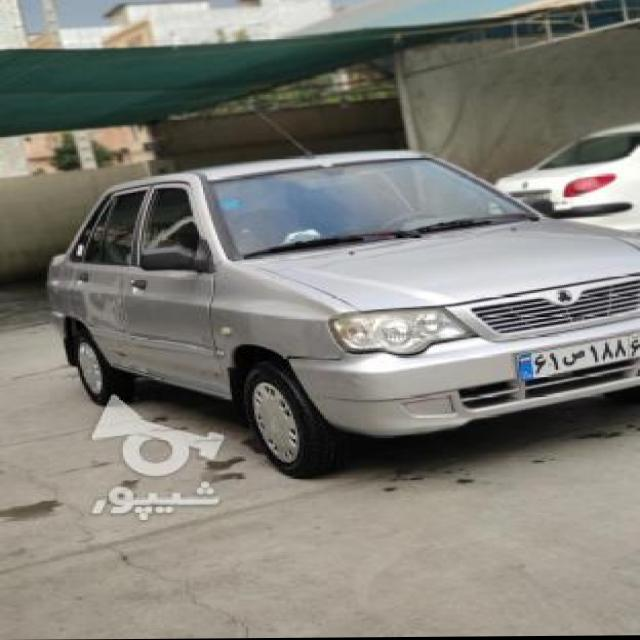licence: (511, 332, 638, 382)
